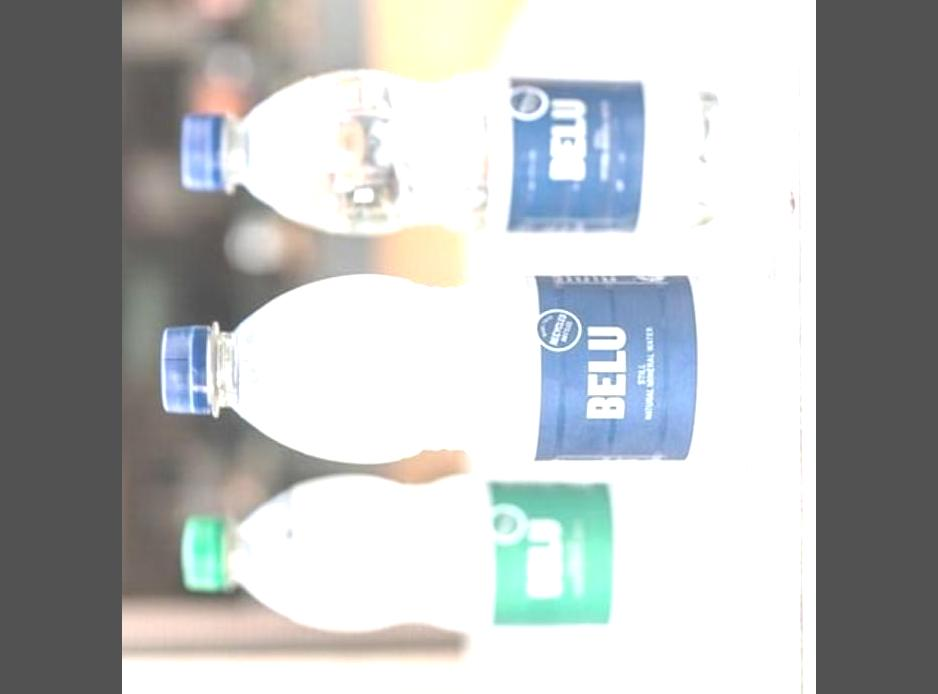bottle: (157, 265, 799, 694), (171, 64, 731, 245), (178, 470, 698, 636)
